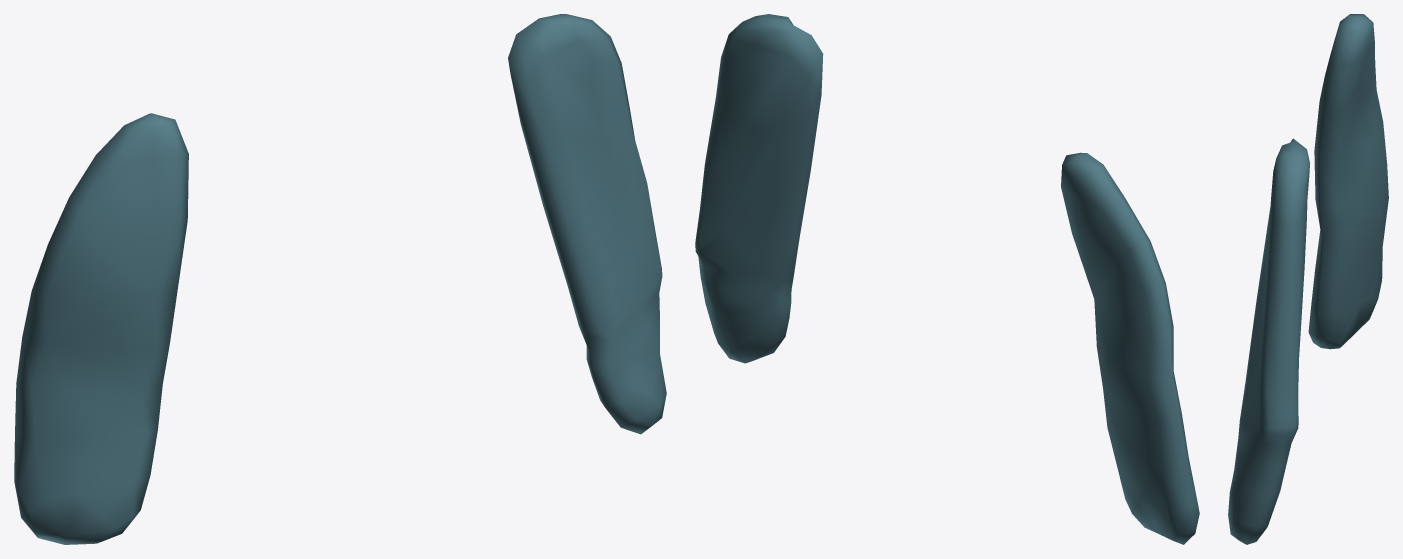
Rendered from Flexor_digitorum_superficialis-middle_phalanx_of_4th_finger.r_G.glb.
3 views of the same model, side by side, from view 1: azimuth 30°, elevation 25°; view 2: azimuth 150°, elevation 25°; view 3: azimuth 270°, elevation 25° (orthographic). The views are drawn at different scales.
Parts seen in each view (by area): view 1: Flexor_digitorum_superficialis-middle_phalanx_of_4th_finger.; view 2: Flexor_digitorum_superficialis-middle_phalanx_of_4th_finger.; view 3: Flexor_digitorum_superficialis-middle_phalanx_of_4th_finger..
Part boxes in pixels (x1,y1,x2,y2): Flexor_digitorum_superficialis-middle_phalanx_of_4th_finger.: [14, 14, 666, 544]; Flexor_digitorum_superficialis-middle_phalanx_of_4th_finger.: [695, 14, 1199, 544]; Flexor_digitorum_superficialis-middle_phalanx_of_4th_finger.: [1228, 14, 1388, 544].
Size of the model in its own units: 0.00788 by 0.00554 by 0.00206.
